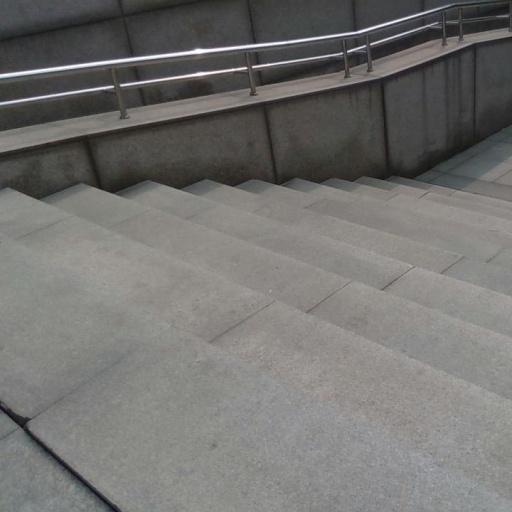Stairs: (0, 177, 512, 512), (385, 267, 512, 336)
